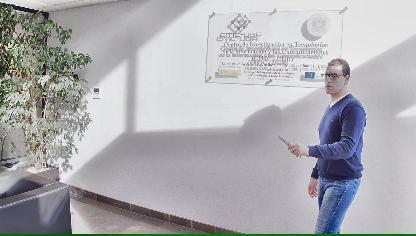knife: (276, 131, 302, 157)
